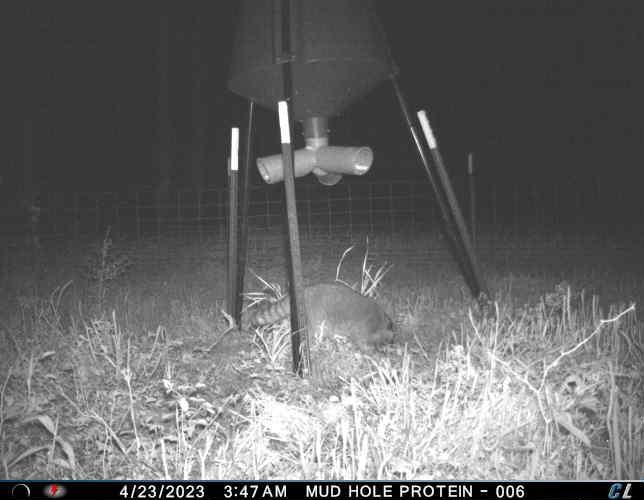Raccoon: (250, 279, 399, 359)
